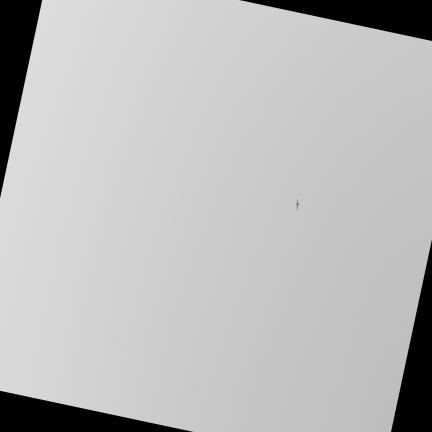Shahed: (295, 199, 298, 210)
